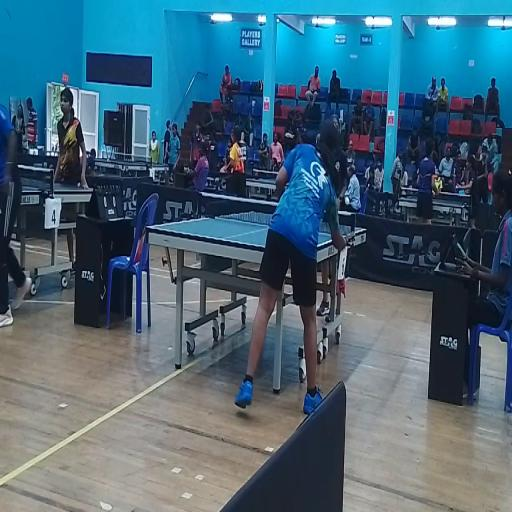ball: (344, 196, 350, 206)
